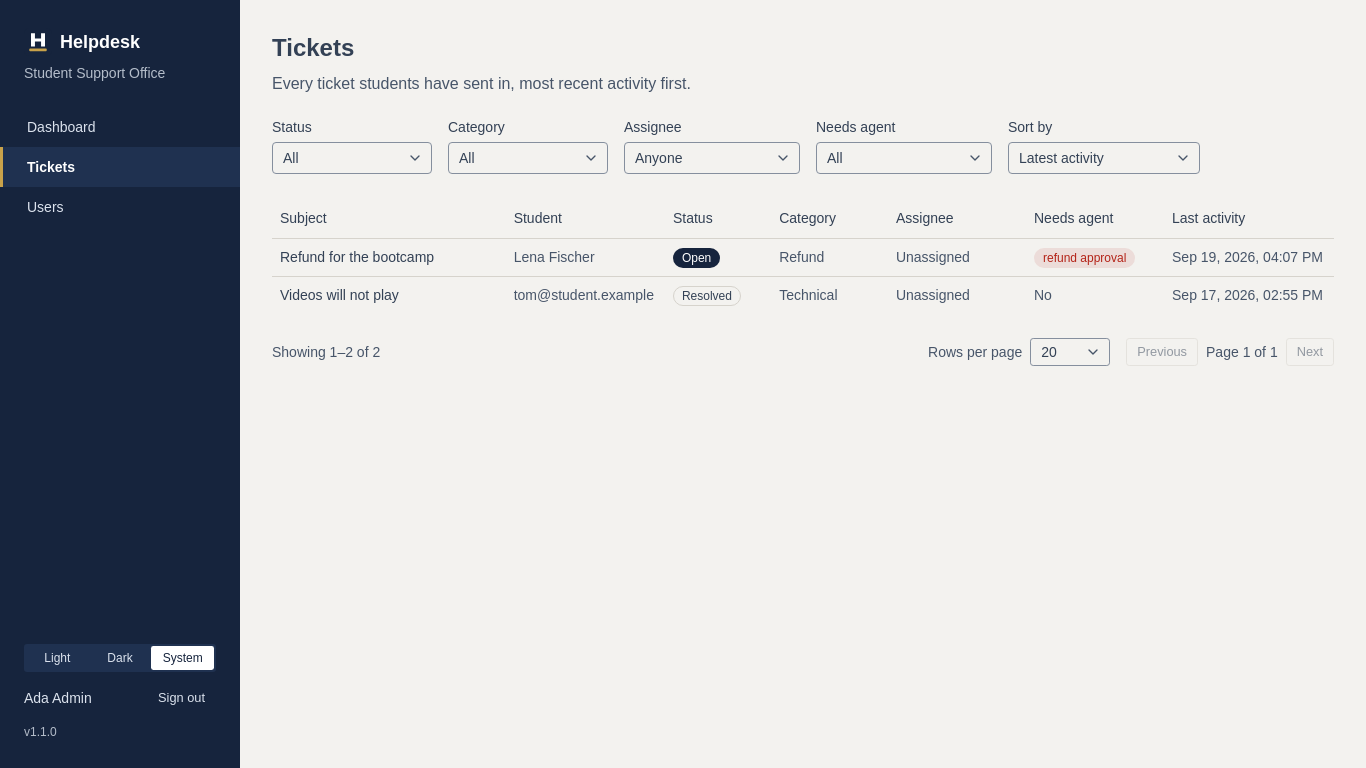
Scenario: choosing a status filters the list and puts it in the URL
Expected: the table is shown, [272, 198, 1334, 314]
Click the dropdown named "Status" at (352,158), box [272, 142, 432, 174]
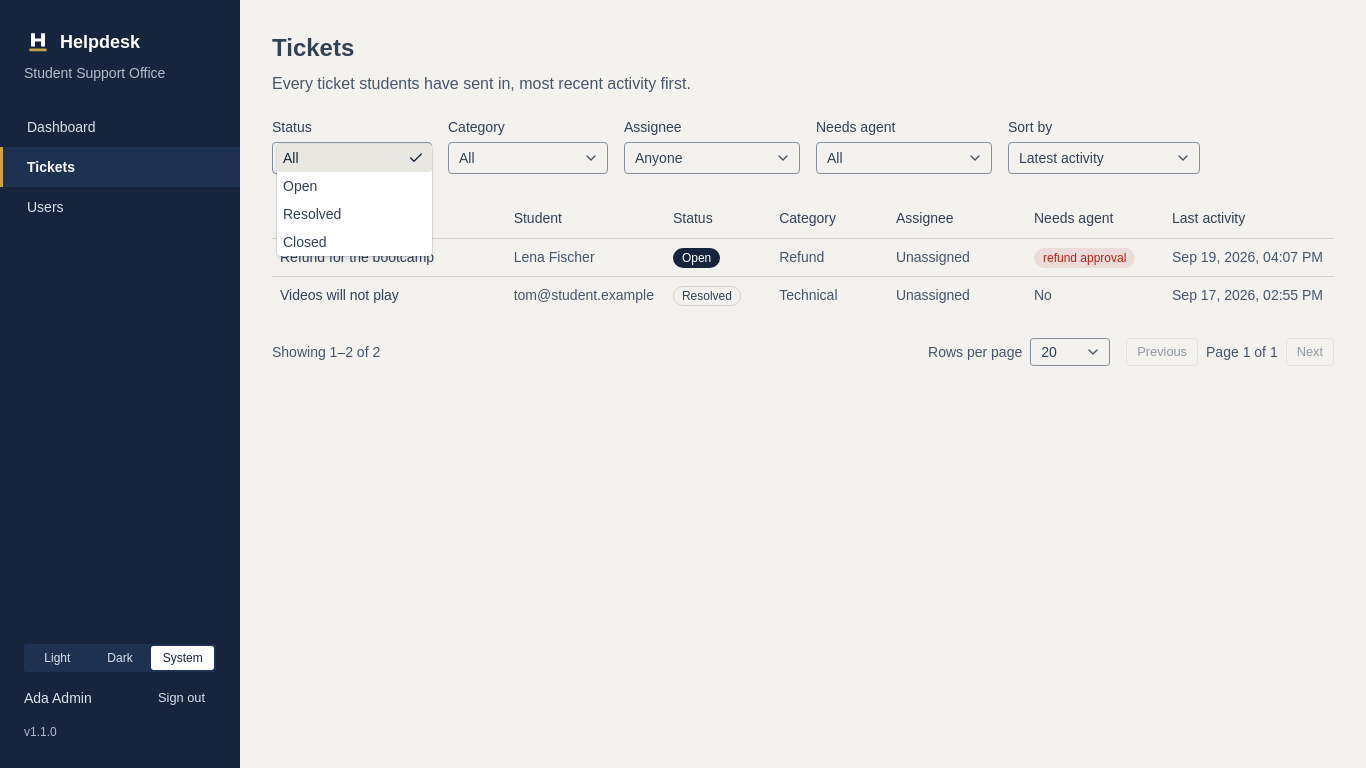
Click the option "resolved" at (312,214), box [283, 206, 341, 222]
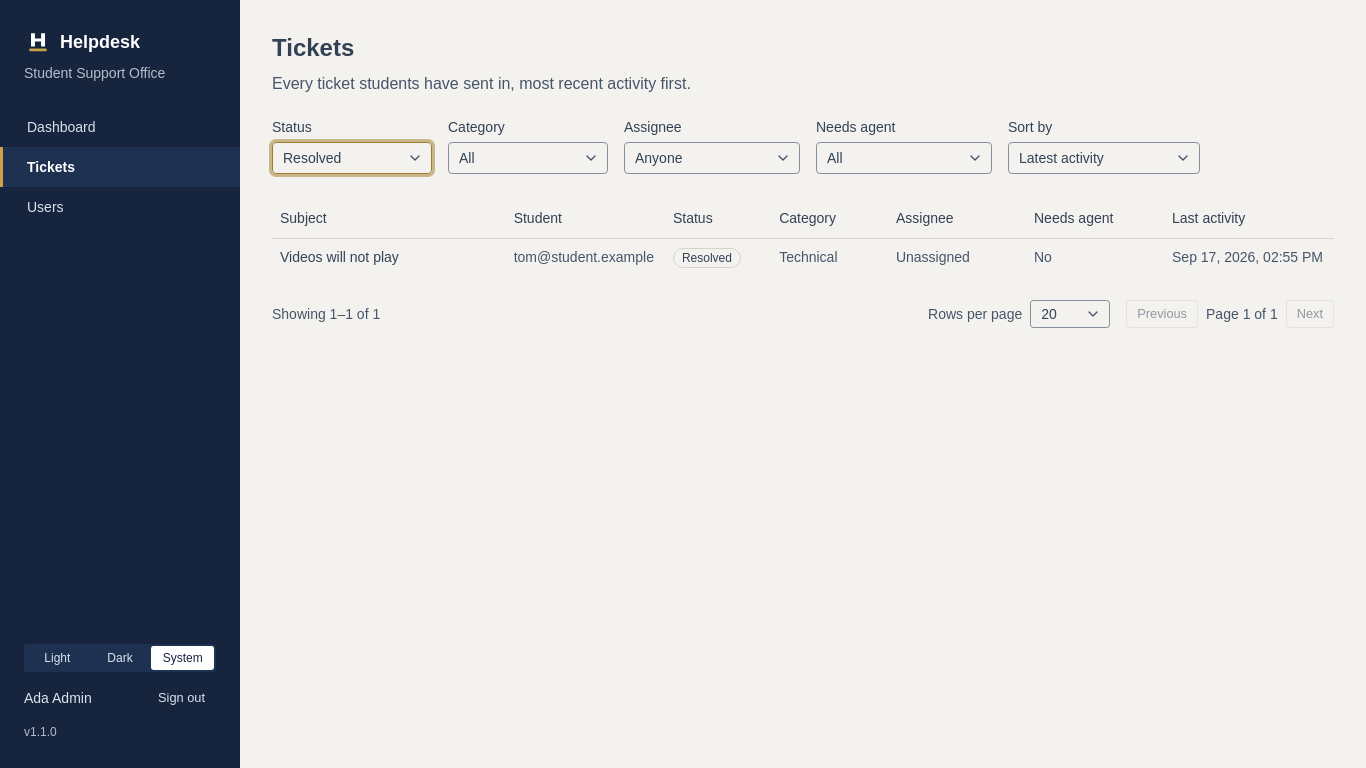
Expected: the cell "Videos will not play" is shown, [272, 238, 506, 276]
Now the link "Refund for the bootcamp" is gone
